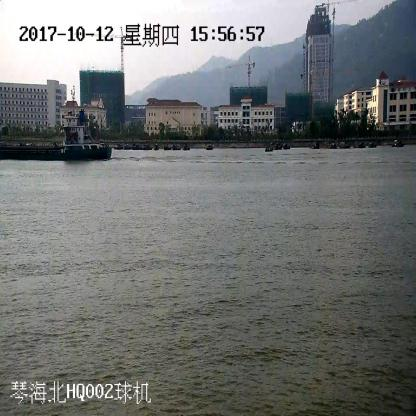Bulk Carrier: (0, 116, 113, 161)
